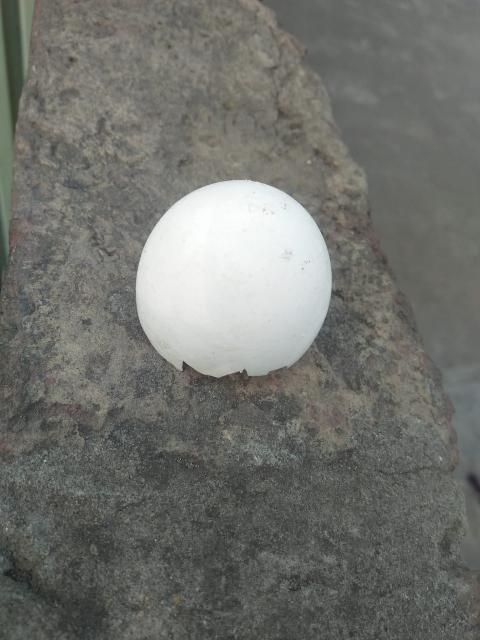Roto: (134, 178, 333, 378)
